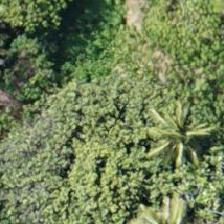coconut_tree: (136, 88, 223, 178)
